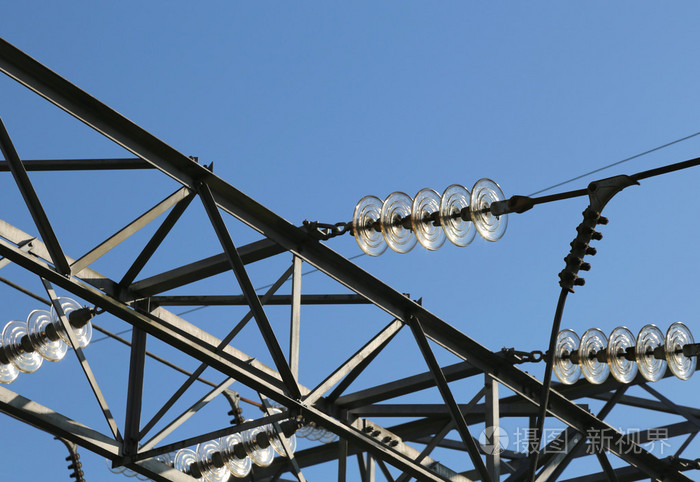insulator: (356, 176, 509, 255), (552, 322, 696, 386), (174, 411, 293, 482), (1, 296, 90, 381)
